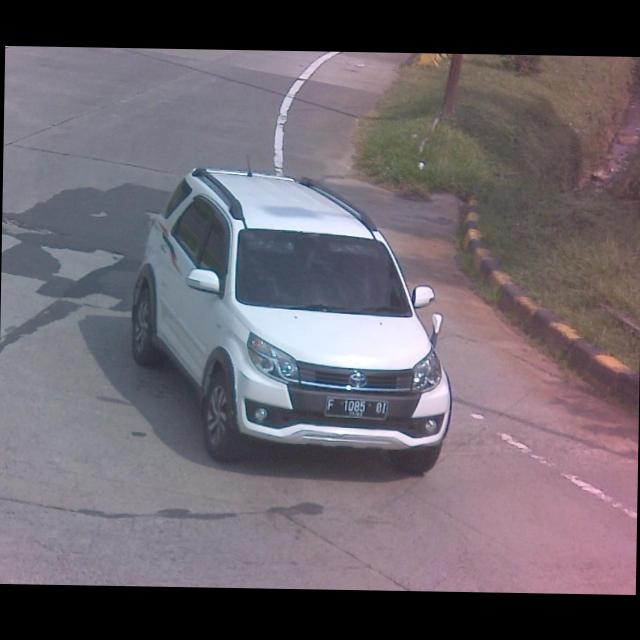plate: (323, 394, 389, 422)
